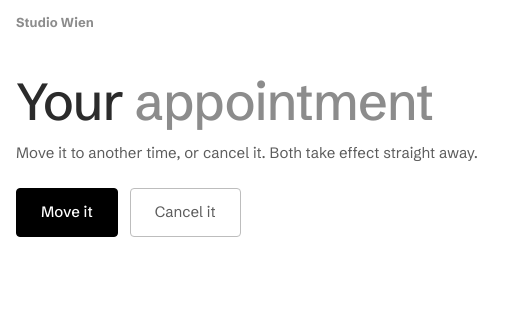
Test: Manage › says so up front when the appointment can no longer be moved
Click the button "Move it" at [67, 212], box [16, 188, 118, 237]
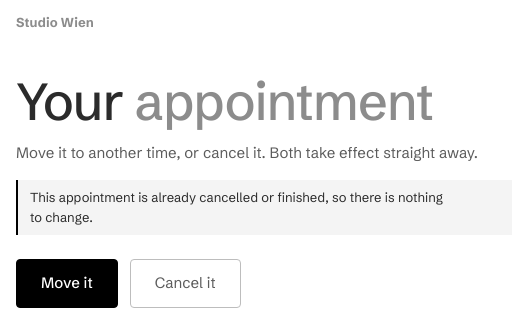
expect the text "already cancelled or finished" is shown: met, box [30, 189, 443, 225]
